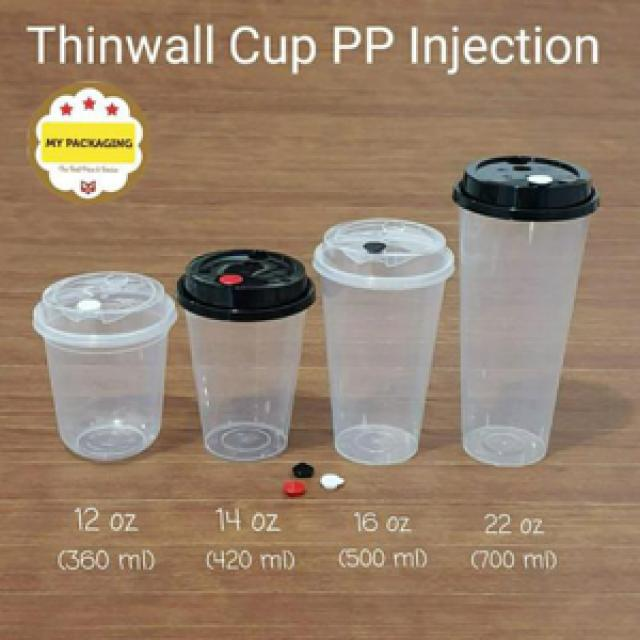plastic cup: (452, 149, 604, 476), (312, 211, 458, 472), (175, 243, 318, 470), (28, 269, 177, 471)
